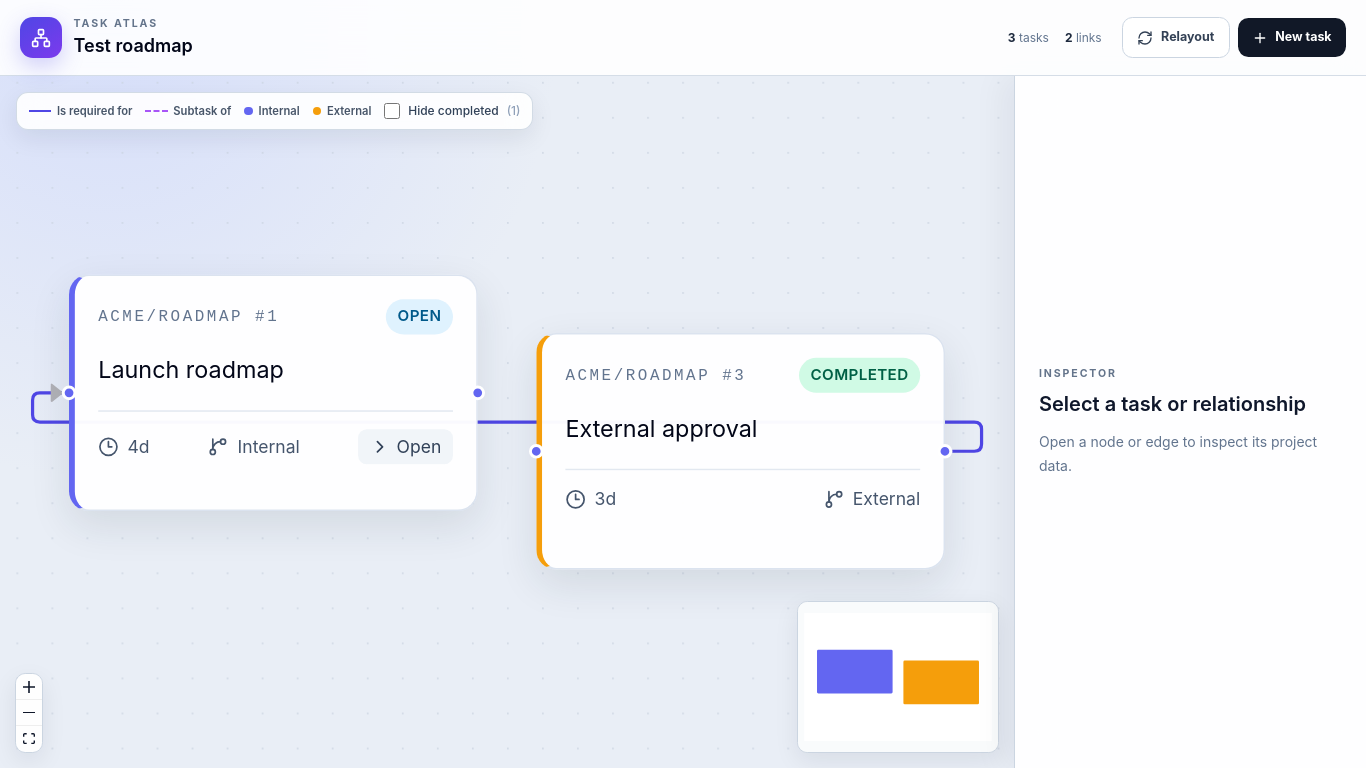
Test: App › starts with top-level tasks and expands children on demand
expect the button named "Select Launch roadmap" is shown: met, box [98, 351, 453, 386]
expect the button named "Select External approval" is shown: met, box [565, 410, 920, 445]
Click the button named "Expand Launch roadmap" at point(406, 446), box [359, 429, 453, 464]
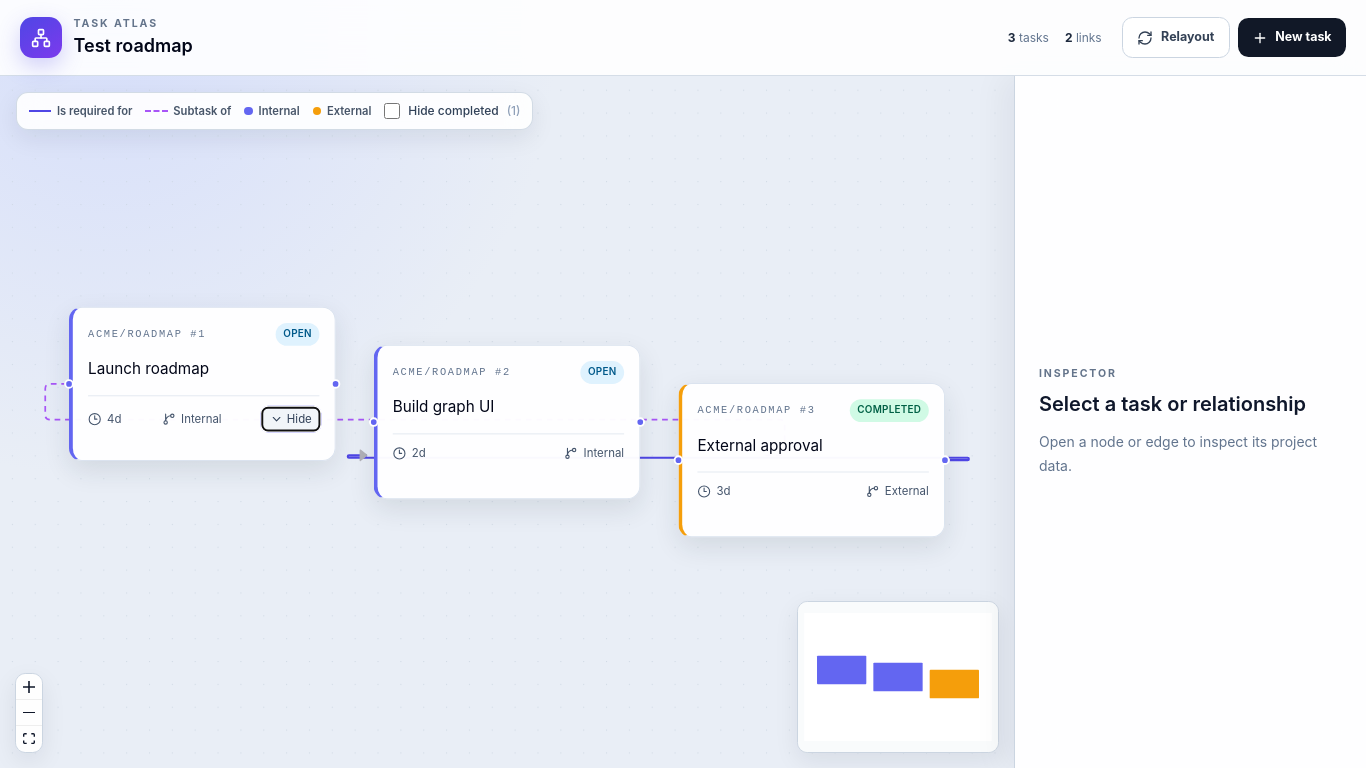
expect the button named "Select Build graph UI" is shown: met, box [393, 395, 624, 418]
